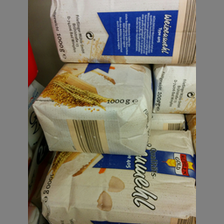flour: (41, 130, 195, 224), (31, 64, 155, 157), (49, 1, 195, 65)
